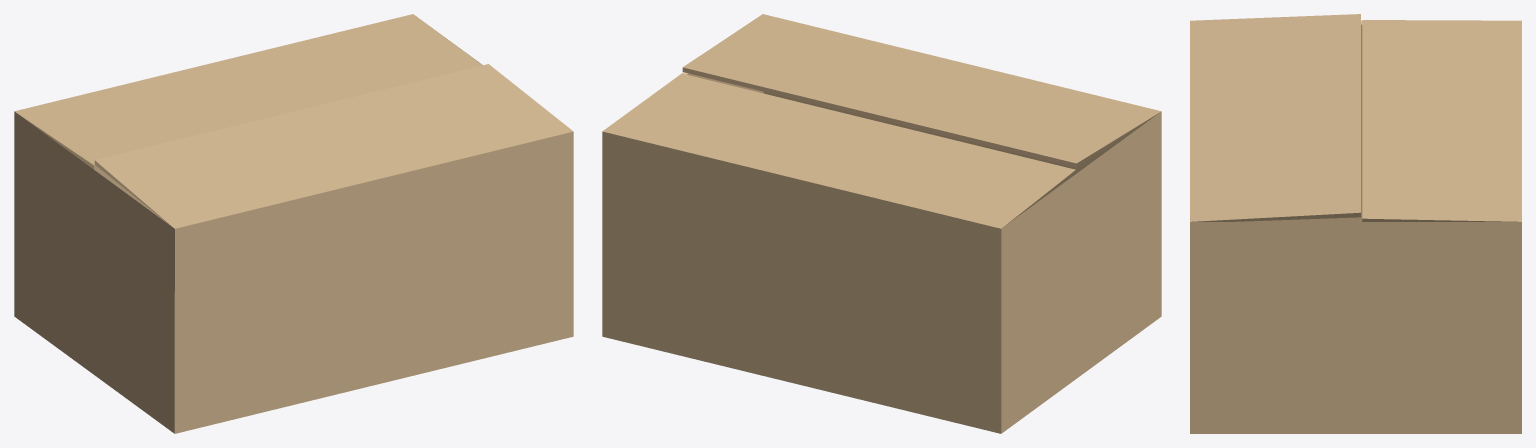
Rendered from SM_carton_01.fbx.
The picture shows the model from 3 angles, left to right: view 1: azimuth 30°, elevation 25°; view 2: azimuth 150°, elevation 25°; view 3: azimuth 270°, elevation 25°; orthographic projection. The views are drawn at different scales.
Visible parts, largest first — view 1: Box066; view 2: Box066; view 3: Box066.
Part boxes in pixels (bbox=[...]): Box066: bbox=[14, 14, 573, 433]; Box066: bbox=[602, 14, 1161, 433]; Box066: bbox=[1190, 14, 1521, 433].
Size of the model in its own units: 34.39 by 23.97 by 17.53.
